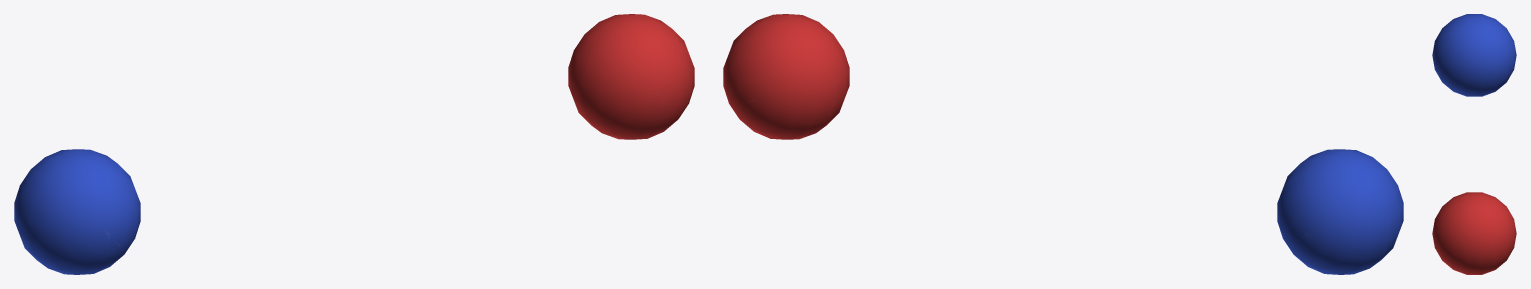
File: 1st_Shell_Electron.DAE
The picture shows the model from 3 angles, left to right: view 1: azimuth 30°, elevation 25°; view 2: azimuth 150°, elevation 25°; view 3: azimuth 270°, elevation 25°; orthographic projection. The views are drawn at different scales.
Parts seen in each view (by area): view 1: Sphere001, Sphere450; view 2: Sphere001, Sphere450; view 3: Sphere001, Sphere450.
Boxes of the visible parts, box(x1,y1,x2,y2) form: Sphere001: box(14, 149, 140, 274); Sphere450: box(568, 14, 694, 139); Sphere001: box(1277, 149, 1403, 274); Sphere450: box(723, 14, 849, 139); Sphere001: box(1432, 14, 1516, 96); Sphere450: box(1432, 192, 1516, 274).
Size of the model in its own units: 93.98 by 15.75 by 15.51.
4 materials, 4 textured.
